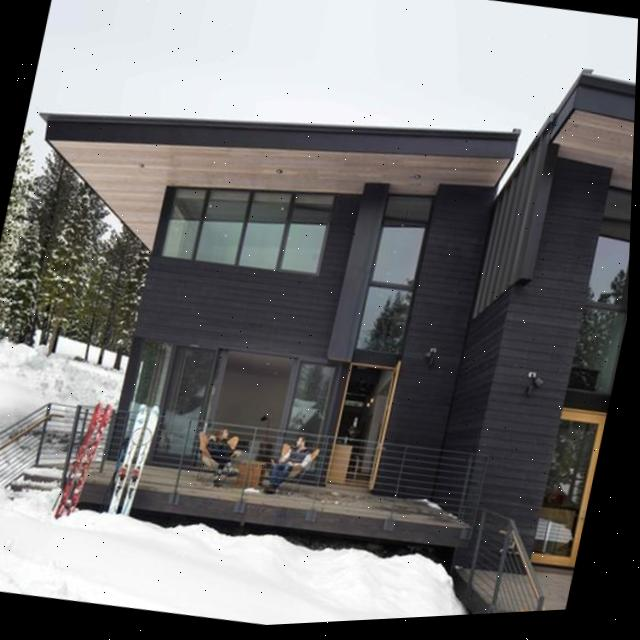building: (0, 45, 514, 569), (417, 55, 637, 586)
